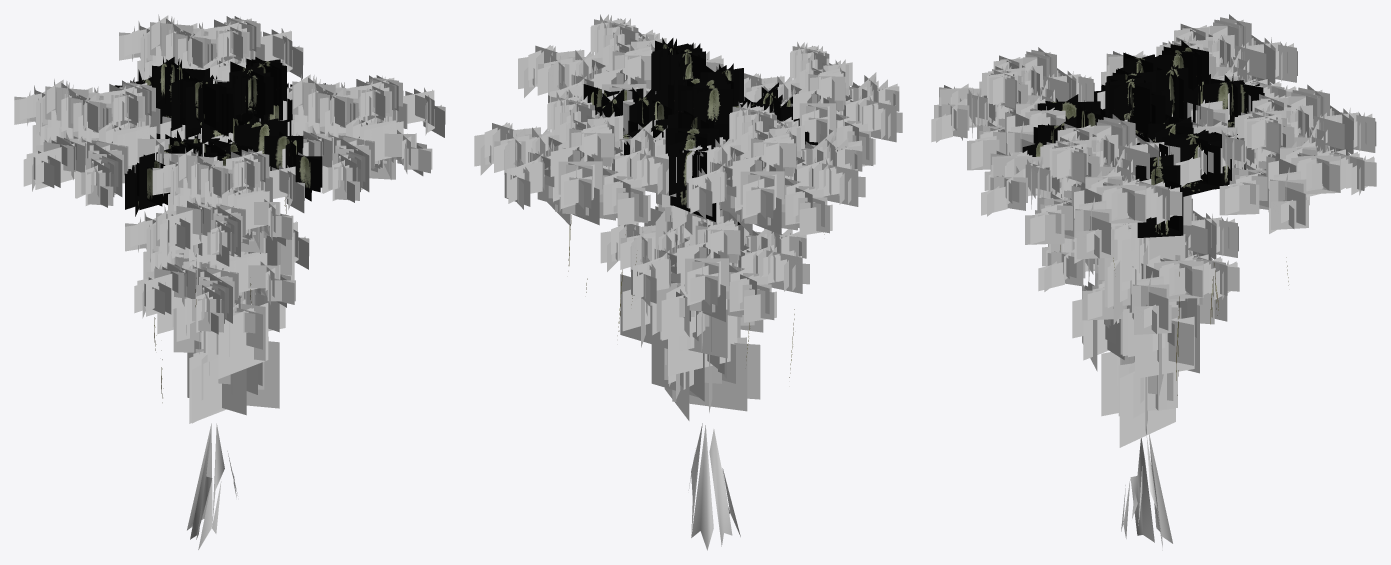
The model's file is Tree.fbx.
The picture shows the model from 3 angles, left to right: view 1: azimuth 30°, elevation 25°; view 2: azimuth 150°, elevation 25°; view 3: azimuth 270°, elevation 25°; orthographic projection. The views are drawn at different scales.
Visible parts, largest first — view 1: Prop; view 2: Prop; view 3: Prop.
Part boxes in pixels (<box>): Prop: <box>14,14,445,549</box>; Prop: <box>474,14,902,550</box>; Prop: <box>931,14,1376,550</box>.
Bounding box in the file's own units: 25.63 × 30.85 × 25.16.
Materials: 8 (2 with a texture image).
